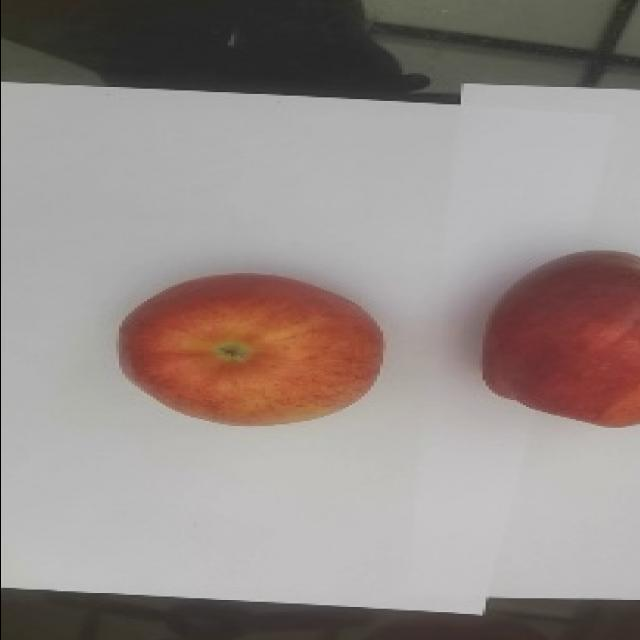Apple: (111, 264, 390, 433), (478, 253, 640, 433)
